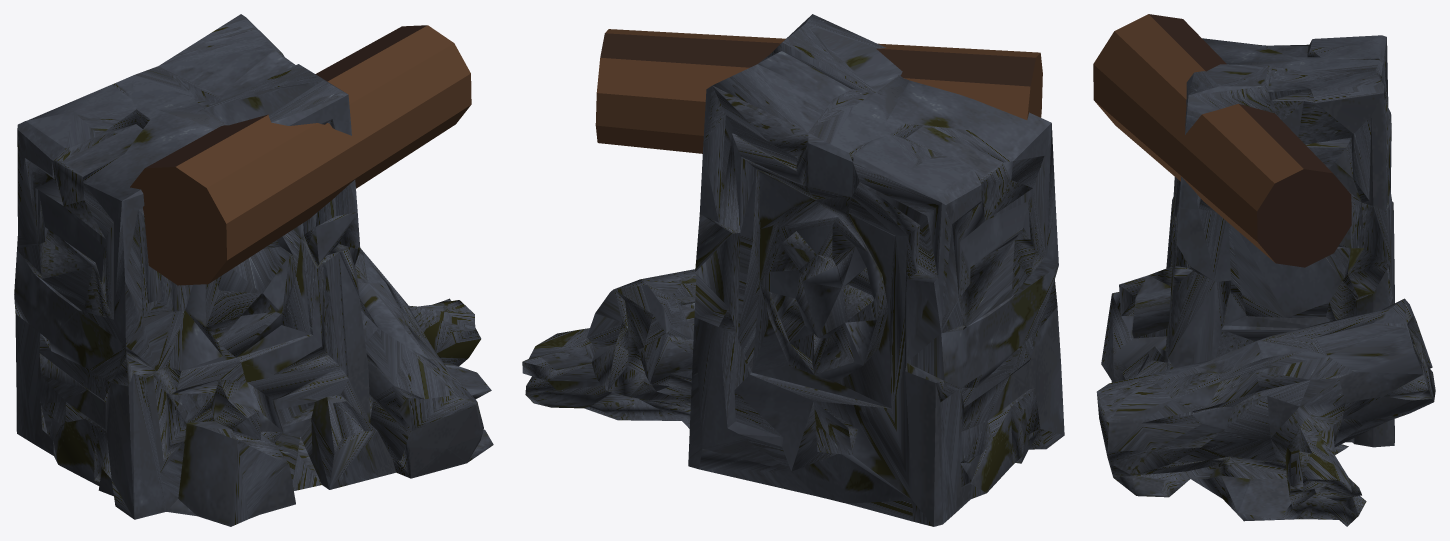
File: cover_half_jungle_v7.glb
The picture shows the model from 3 angles, left to right: view 1: azimuth 30°, elevation 25°; view 2: azimuth 150°, elevation 25°; view 3: azimuth 270°, elevation 25°; orthographic projection. The views are drawn at different scales.
Visible parts, largest first — view 1: Mesh_0, Fallen trunk across ruin; view 2: Mesh_0, Fallen trunk across ruin; view 3: Mesh_0, Fallen trunk across ruin.
Part boxes in pixels (bbox=[...]): Mesh_0: bbox=[14, 14, 493, 526]; Fallen trunk across ruin: bbox=[130, 25, 471, 285]; Mesh_0: bbox=[522, 14, 1064, 526]; Fallen trunk across ruin: bbox=[595, 29, 1042, 153]; Mesh_0: bbox=[1096, 35, 1435, 526]; Fallen trunk across ruin: bbox=[1093, 14, 1351, 267].
Size of the model in its own units: 0.9545 by 0.7959 by 0.7003.
Materials: 3 (1 with a texture image).
